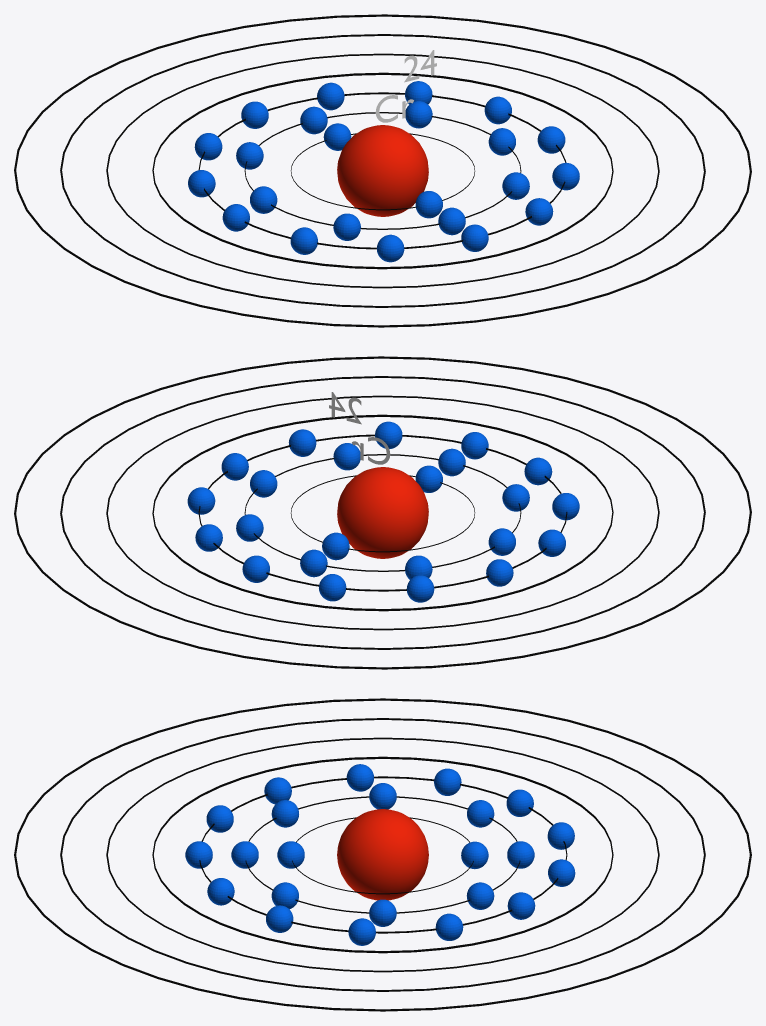
3 views of the same model, one above another, from view 1: azimuth 30°, elevation 25°; view 2: azimuth 150°, elevation 25°; view 3: azimuth 270°, elevation 25° (orthographic).
Visible parts, largest first — view 1: Cr3, Proton, Cr2, n7, n6, n5, n4, n3, Cr1, n2; view 2: Cr3, Proton, Cr2, n7, n6, n5, n4, n3, Cr1, n2; view 3: Cr3, Proton, Cr2, n7, n6, n5, n4, n3, Cr1, n2, n1.
Boxes of the visible parts, x1,y1,x2,y2 form: Cr3: [188, 81, 579, 262]; Proton: [337, 125, 428, 216]; Cr2: [236, 101, 529, 240]; n7: [14, 14, 751, 327]; n6: [60, 34, 705, 307]; n5: [106, 53, 659, 288]; n4: [152, 72, 613, 269]; n3: [198, 92, 566, 249]; Cr1: [323, 123, 442, 218]; n2: [244, 112, 521, 229]; Cr3: [187, 421, 579, 602]; Proton: [337, 467, 428, 558]; Cr2: [236, 443, 529, 579]; n7: [14, 356, 751, 669]; n6: [60, 376, 705, 649]; n5: [106, 395, 659, 630]; n4: [152, 414, 613, 611]; n3: [198, 434, 567, 591]; Cr1: [322, 465, 442, 560]; n2: [244, 454, 521, 571]; Cr3: [185, 764, 575, 945]; Proton: [337, 809, 428, 900]; Cr2: [231, 783, 534, 926]; n7: [14, 698, 751, 1011]; n6: [60, 718, 705, 991]; n5: [106, 737, 659, 972]; n4: [152, 756, 613, 953]; n3: [199, 776, 567, 933]; Cr1: [277, 841, 488, 869]; n2: [245, 796, 520, 913]; n1: [292, 817, 473, 894].
Size of the model in its own units: 802 by 180 by 802.
